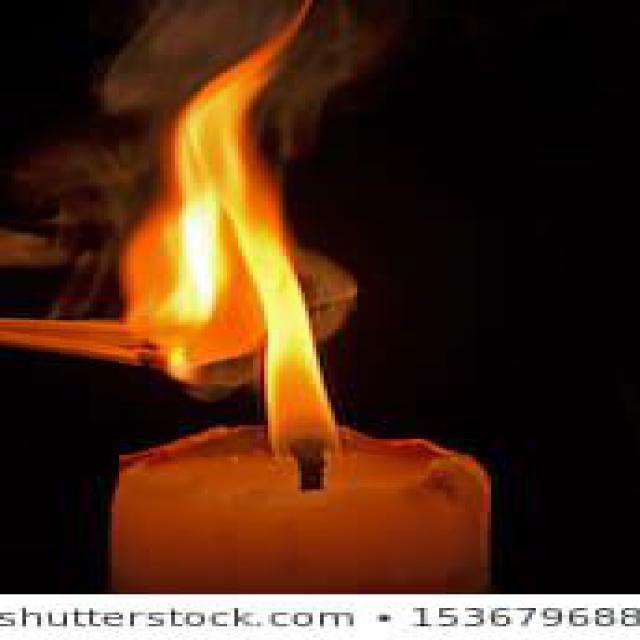Fire: (133, 0, 343, 467)
